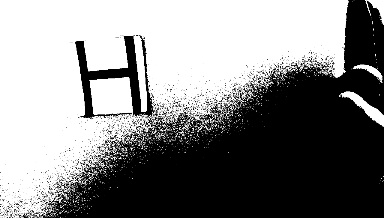H: (71, 33, 145, 119)
